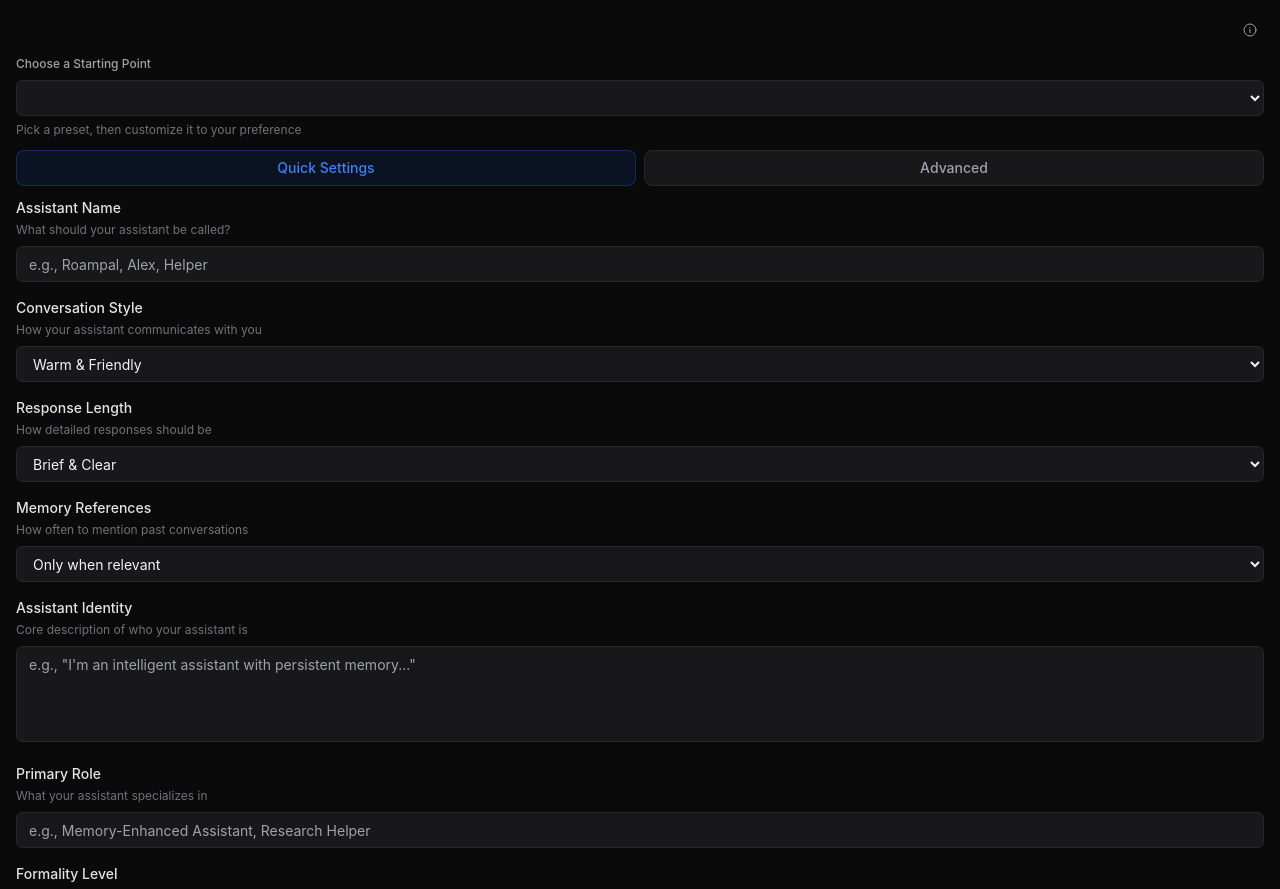
Scenario: PersonalityCustomizer › Advanced Mode › switches to advanced mode
Click the button "Advanced": {"x": 954, "y": 168} [644,150,1264,186]
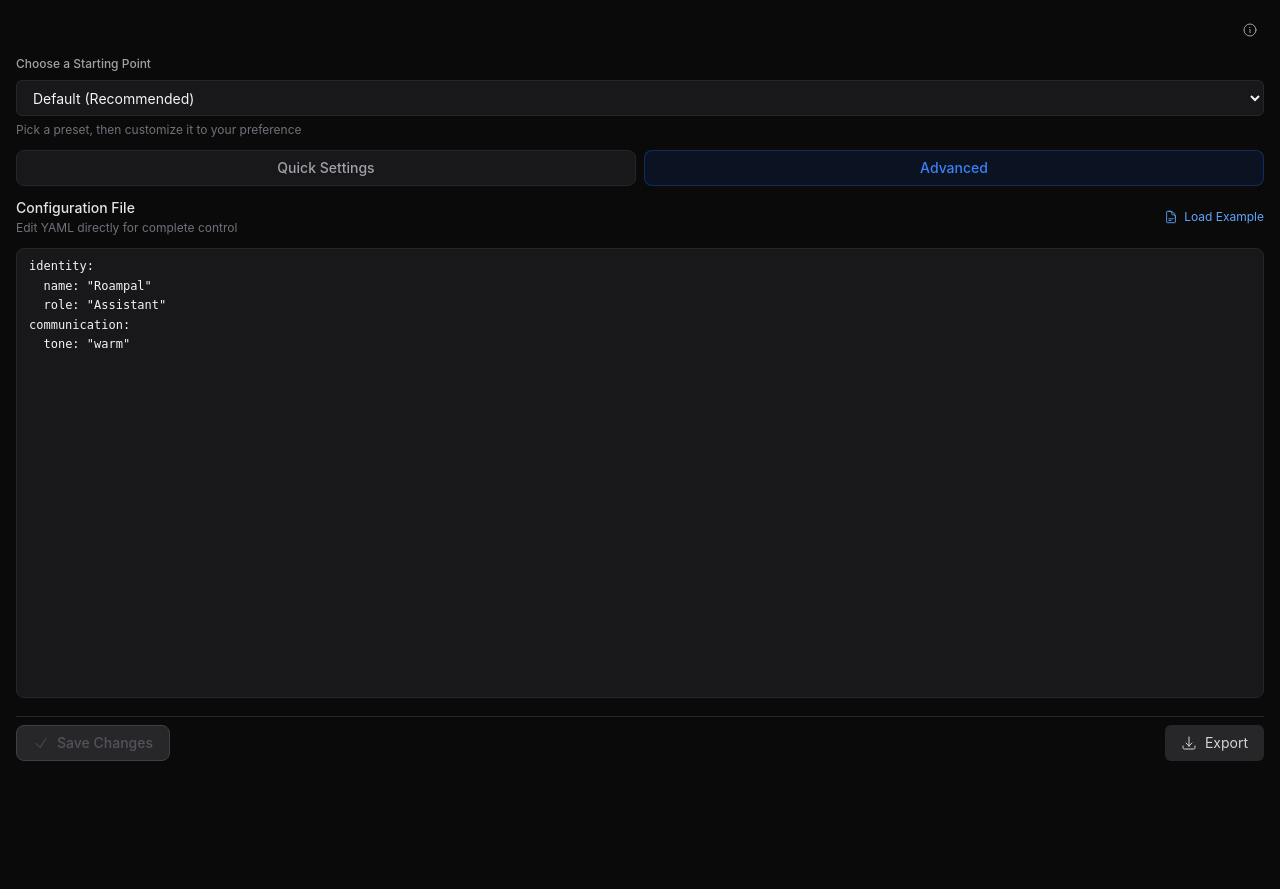
Check: the text "Configuration File" is shown, box [16,199,135,216]
